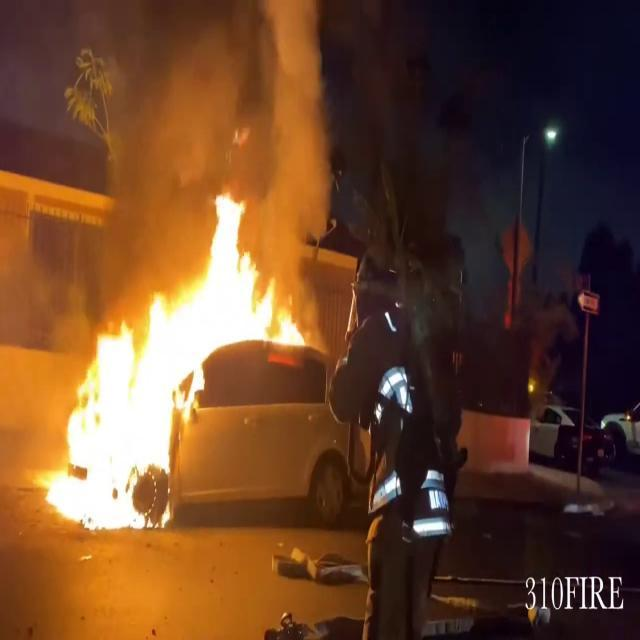Fire: (28, 187, 312, 536)
Smoke: (69, 0, 346, 228)
